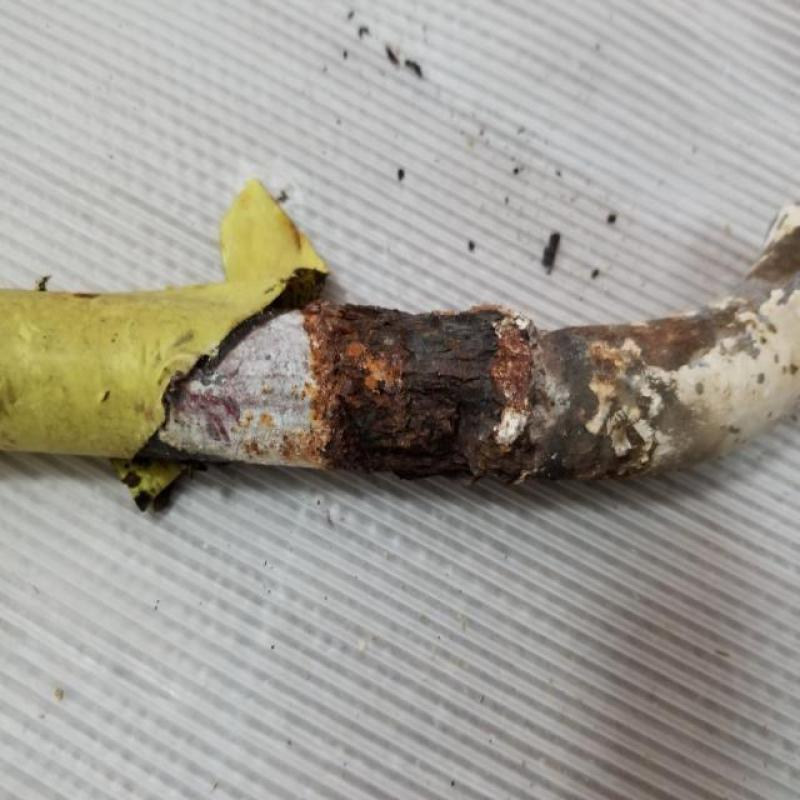corrosion: (298, 313, 693, 493)
